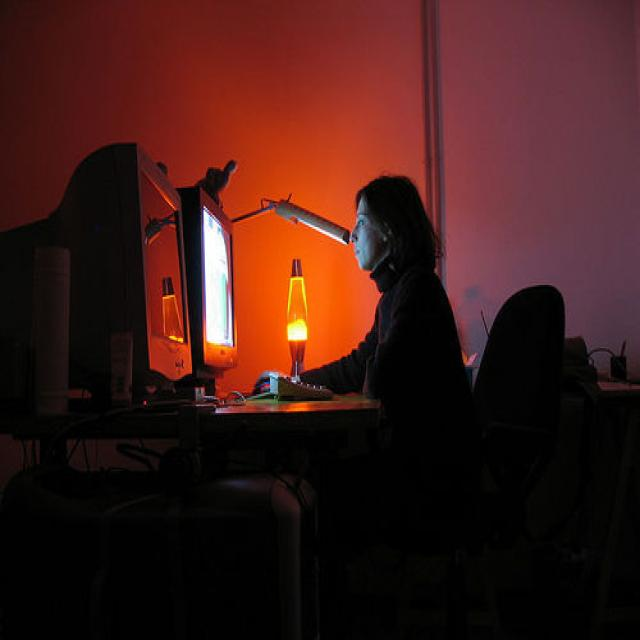Bottle: (20, 235, 84, 430)
Cup: (96, 328, 144, 423)
People: (330, 163, 493, 635)
Table: (0, 379, 385, 640), (564, 315, 639, 640)
chair: (456, 288, 560, 601)
